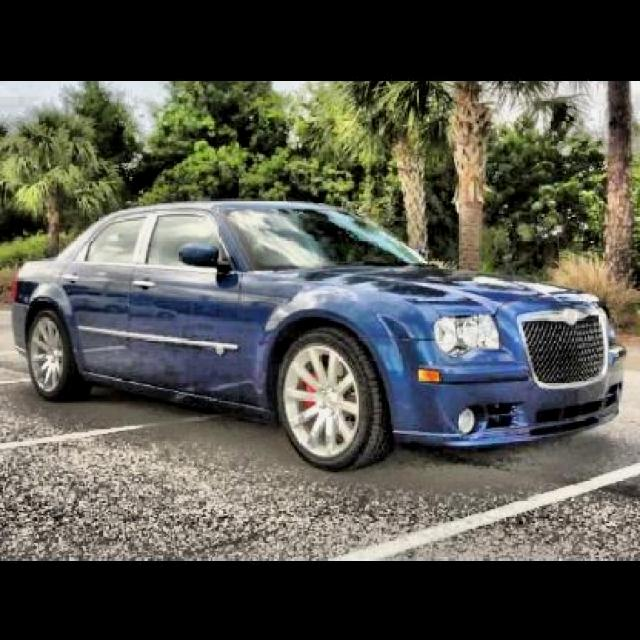blue: (0, 192, 625, 429)
